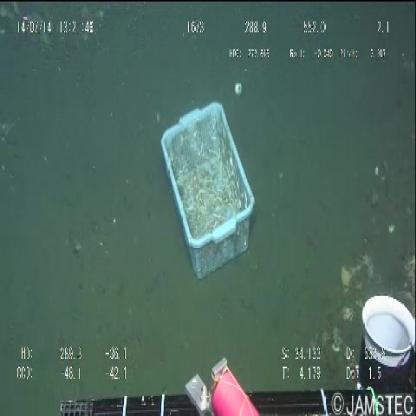Rov: (51, 279, 416, 416)
Rác: (148, 92, 270, 294)
